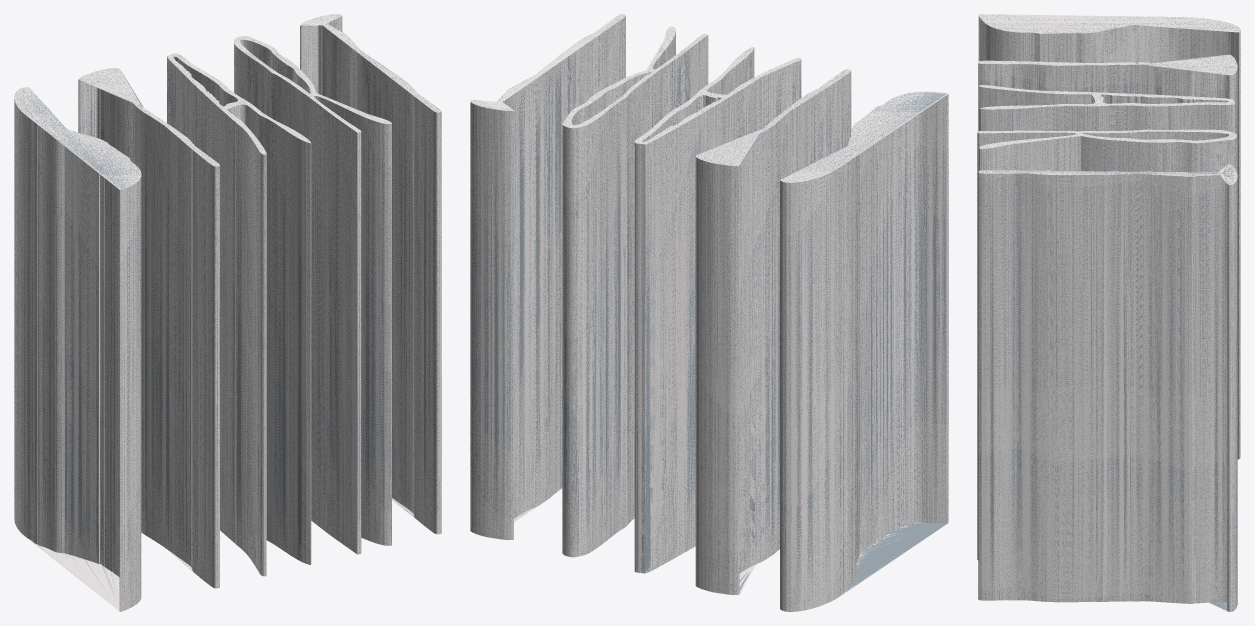
Rendered from start.fbx.
3 renders of one model, left to right at view 1: azimuth 30°, elevation 25°; view 2: azimuth 150°, elevation 25°; view 3: azimuth 270°, elevation 25°, orthographic.
Visible parts, largest first — view 1: Model; view 2: Model; view 3: Model.
Boxes of the visible parts, <box> form: Model: <box>14,14,441,611</box>; Model: <box>470,14,948,611</box>; Model: <box>977,14,1240,611</box>.
Size of the model in its own units: 1716 by 2000 by 1118.
